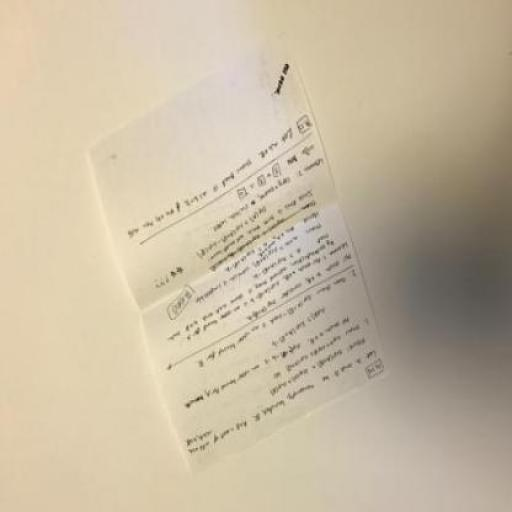paper: (90, 35, 388, 471)
